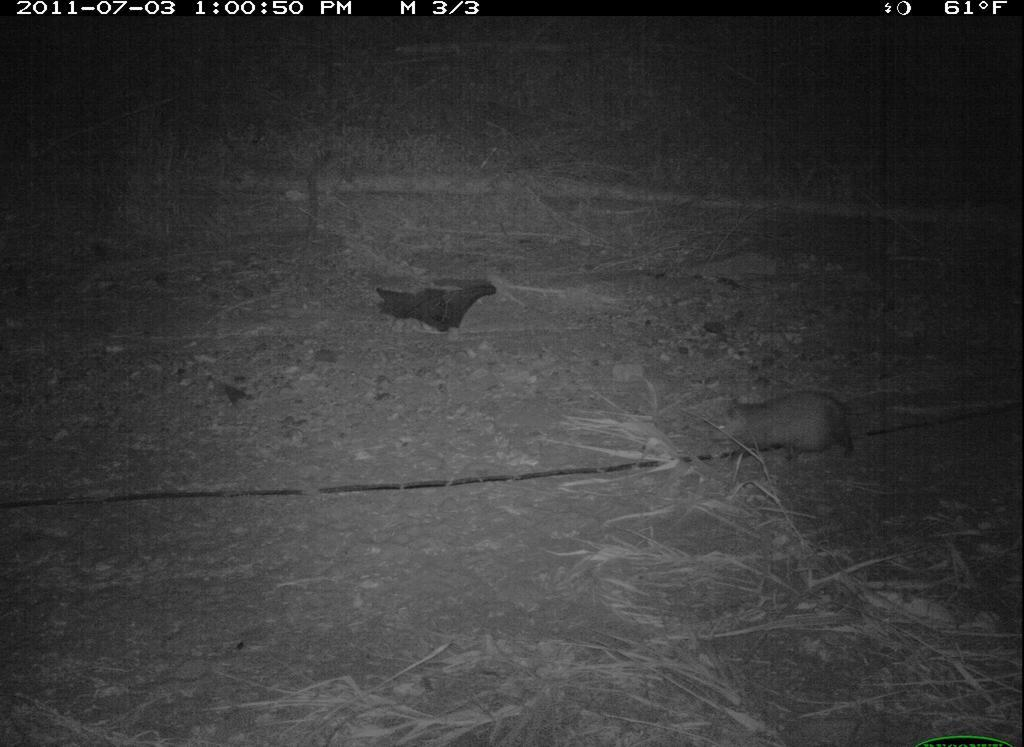opossum: (694, 385, 917, 479)
